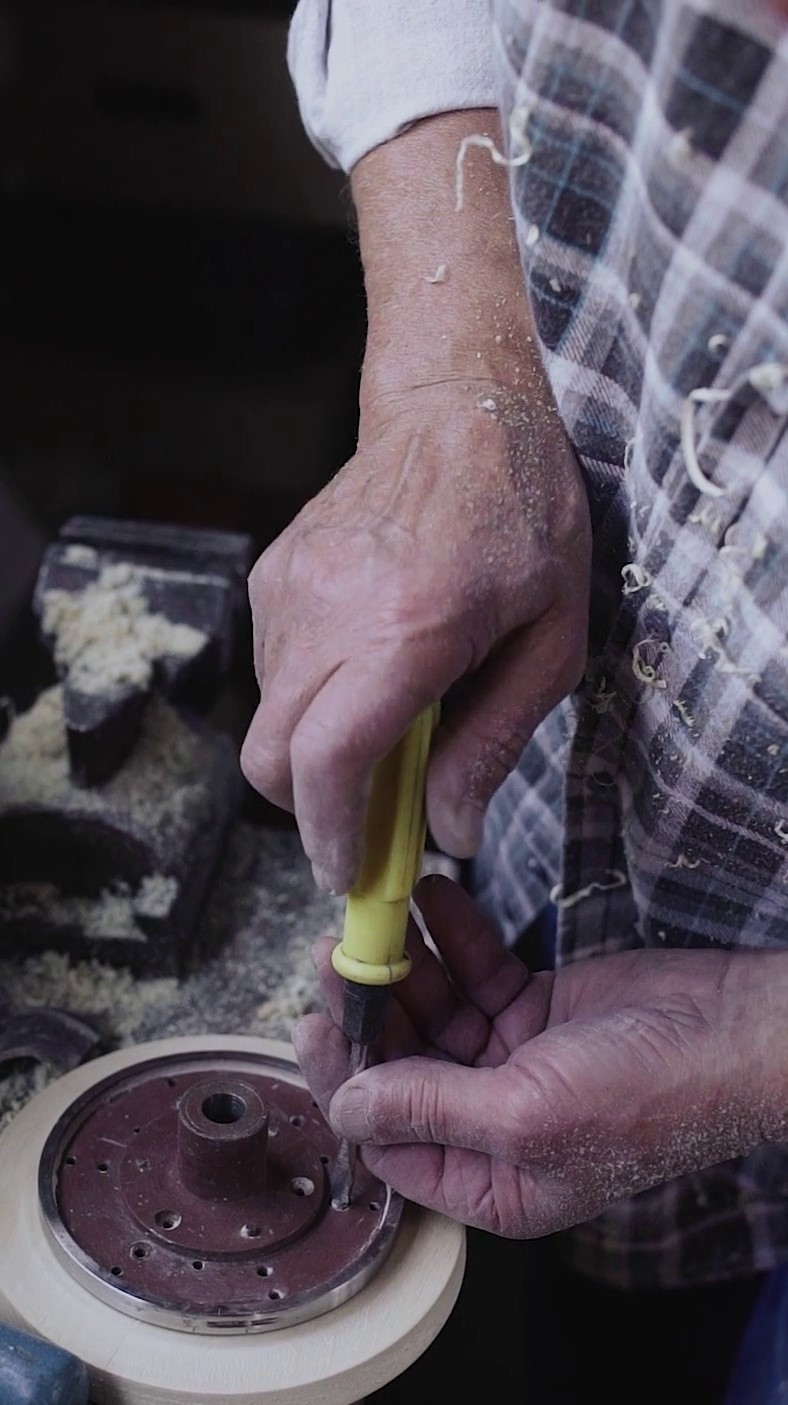hammer: (325, 687, 438, 1210)
